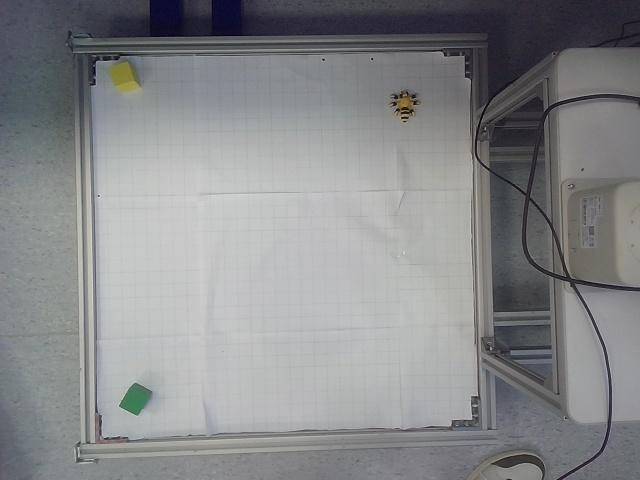frelon: (389, 91, 420, 124)
